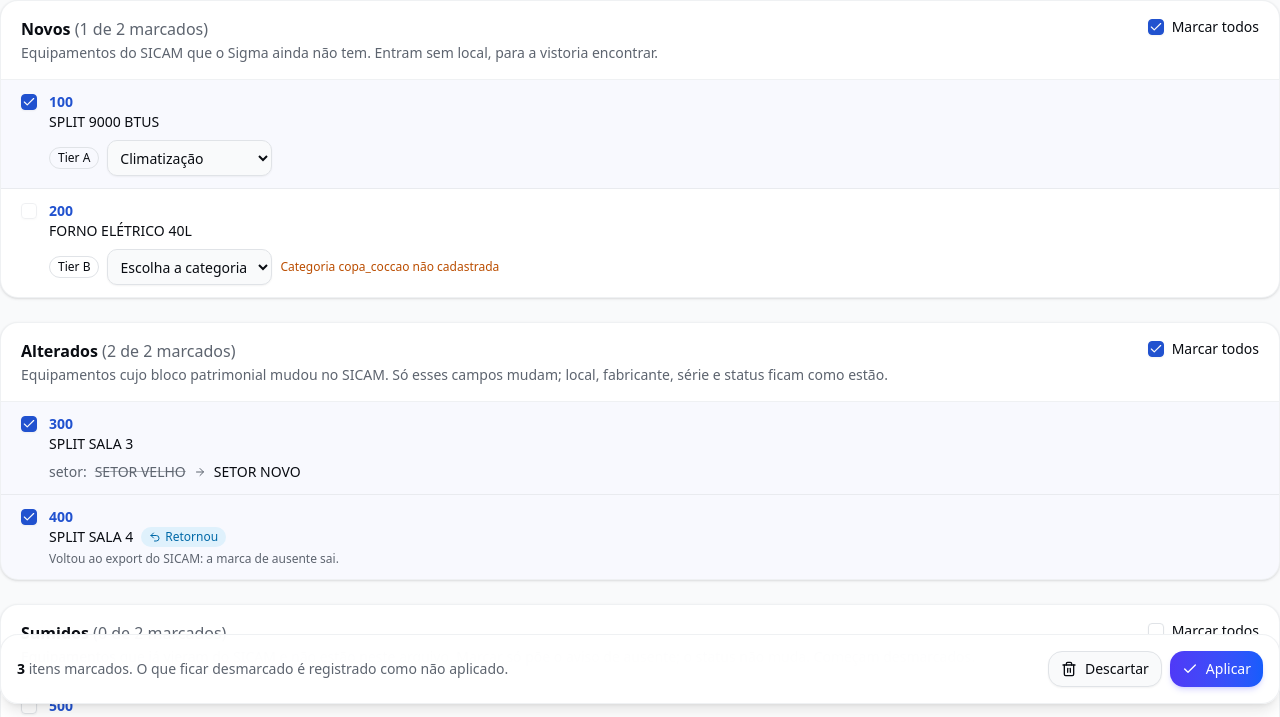
it: RevisaoImportacao: seleção › escolher uma categoria para o novo bloqueado libera e marca a linha
Select "Copa: cocção" in the dropdown named "Categoria do ativo 200" next to "Categoria copa_coccao não cadastrada": (190, 267) [107,249,272,285]
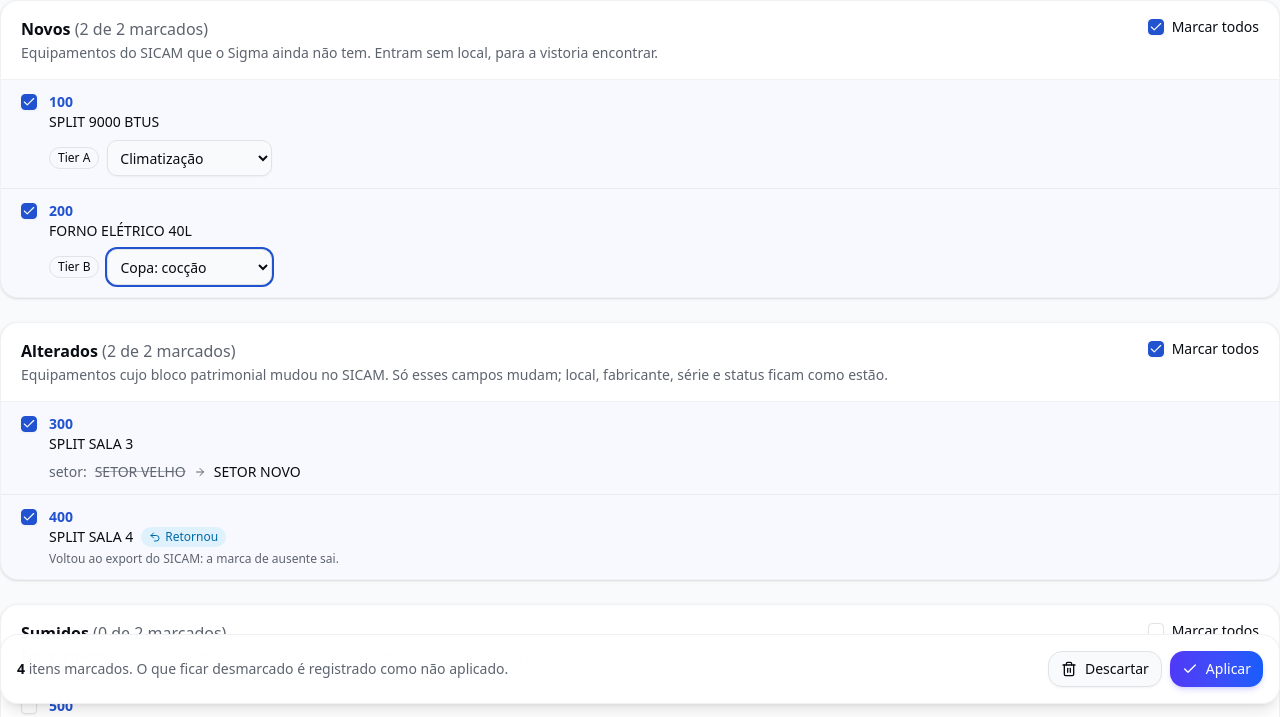
Result: the text "Categoria copa_coccao não cadastrada" is gone
